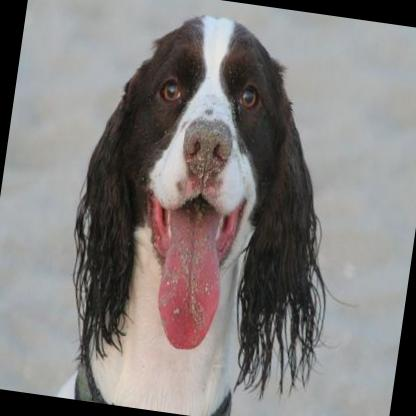English_springer: (49, 0, 363, 416)
